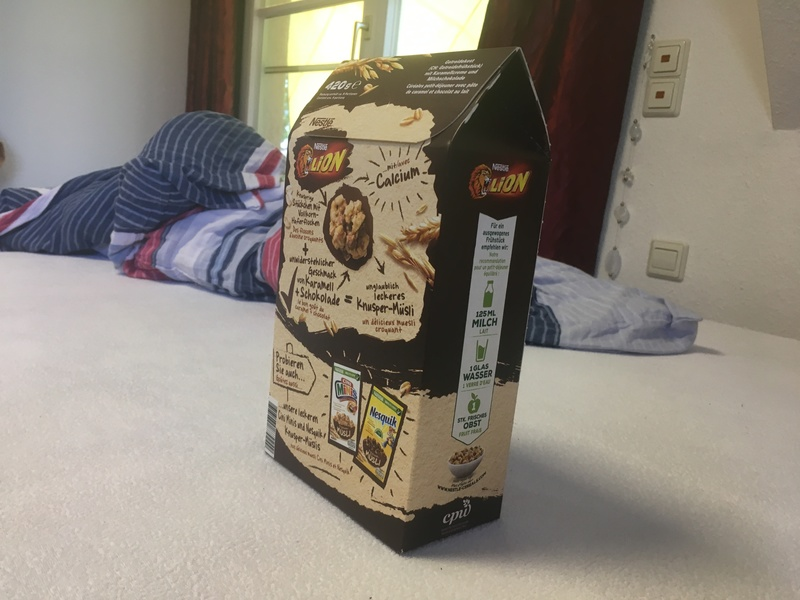cereals: (264, 48, 551, 555)
